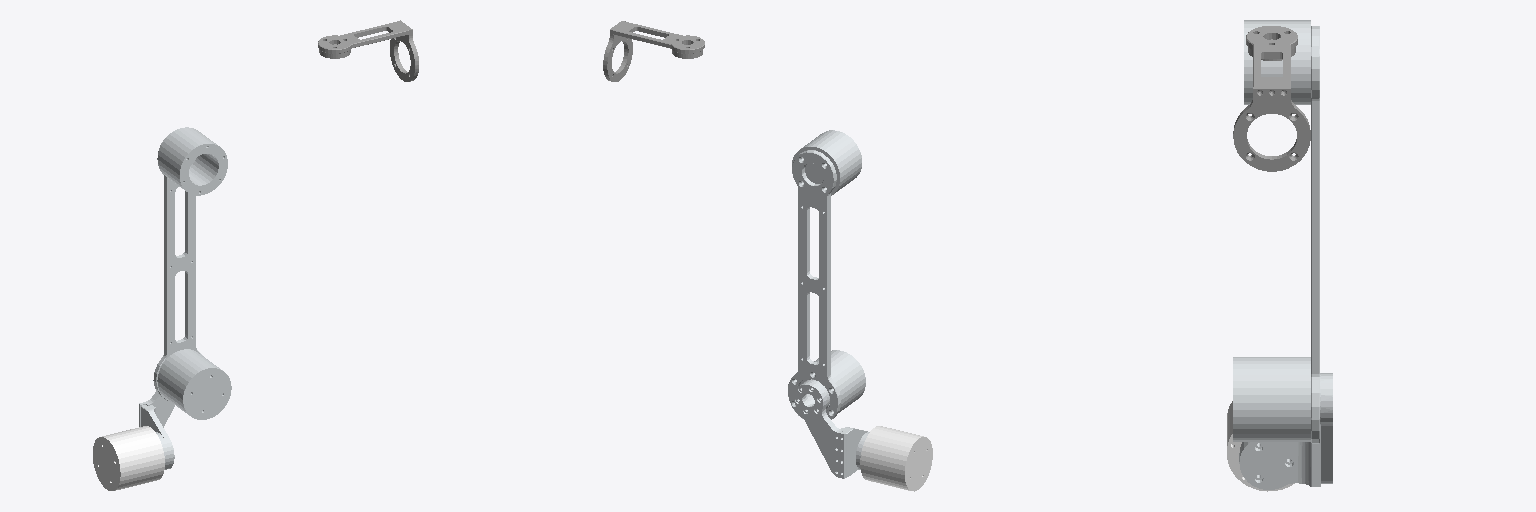
URDF robot description (arm):
<?xml version="1.0" encoding="utf-8"?>
<!-- This URDF was automatically created by SolidWorks to URDF Exporter! Originally created by Stephen Brawner (brawner@gmail.com) 
     Commit Version: 1.6.0-4-g7f85cfe  Build Version: 1.6.7995.38578
     For more information, please see http://wiki.ros.org/sw_urdf_exporter -->
<robot name="arm">

  <link
    name="base_link">
    <inertial>
      <origin
        xyz="0.025701 5.0471E-18 1.8724E-17"
        rpy="0 0 0" />
      <mass
        value="0.361" />
      <inertia
        ixx="0.00013128"
        ixy="-9.8948E-21"
        ixz="-1.4612E-21"
        iyy="0.0001261"
        iyz="8.4933E-21"
        izz="0.0001261" />
    </inertial>
    <visual>
      <origin
        xyz="0 0 0"
        rpy="0 0 0" />
      <geometry>
        <mesh
          filename="package://dummy_description/meshes/arm/A-L1-GAMMA/base_link.STL" />
      </geometry>
      <material
        name="">
        <color
          rgba="1 1 1 1" />
      </material>
    </visual>
    <collision>
      <origin
        xyz="0 0 0"
        rpy="0 0 0" />
      <geometry>
        <mesh
          filename="package://dummy_description/meshes/arm/A-L1-GAMMA/base_link.STL" />
      </geometry>
    </collision>
  </link>
  <link
    name="link1">
    <inertial>
      <origin
        xyz="0.03356 0.0084188 0.049178"
        rpy="0 0 0" />
      <mass
        value="0.471" />
      <inertia
        ixx="0.00017444"
        ixy="-1.9181E-06"
        ixz="-1.3887E-05"
        iyy="0.0001772"
        iyz="-3.8449E-06"
        izz="0.0001465" />
    </inertial>
    <visual>
      <origin
        xyz="0 0 0"
        rpy="0 0 0" />
      <geometry>
        <mesh
          filename="package://dummy_description/meshes/arm/A-L1-GAMMA/Link1.STL" />
      </geometry>
      <material
        name="">
        <color
          rgba="0.89804 0.91765 0.92941 1" />
      </material>
    </visual>
    <collision>
      <origin
        xyz="0 0 0"
        rpy="0 0 0" />
      <geometry>
        <mesh
          filename="package://dummy_description/meshes/arm/A-L1-GAMMA/Link1.STL" />
      </geometry>
    </collision>
  </link>
  <joint
    name="joint1"
    type="revolute">
    <origin
      xyz="0.0613 0 0"
      rpy="0 0 0" />
    <parent
      link="base_link" />
    <child
      link="link1" />
    <axis
      xyz="1 0 0" />
    <limit
      lower="-3.14"
      upper="3.14"
      effort="0"
      velocity="0" />
  </joint>
  <link
    name="link2">
    <inertial>
      <origin
        xyz="2.6368E-16 -0.012392 0.17249"
        rpy="0 0 0" />
      <mass
        value="0.429" />
      <inertia
        ixx="0.0010287"
        ixy="-1.3972E-20"
        ixz="3.8782E-19"
        iyy="0.0010584"
        iyz="-3.9081E-08"
        izz="5.6591E-05" />
    </inertial>
    <visual>
      <origin
        xyz="0 0 0"
        rpy="0 0 0" />
      <geometry>
        <mesh
          filename="package://dummy_description/meshes/arm/A-L1-GAMMA/Link2.STL" />
      </geometry>
      <material
        name="">
        <color
          rgba="0.89804 0.91765 0.92941 1" />
      </material>
    </visual>
    <collision>
      <origin
        xyz="0 0 0"
        rpy="0 0 0" />
      <geometry>
        <mesh
          filename="package://dummy_description/meshes/arm/A-L1-GAMMA/Link2.STL" />
      </geometry>
    </collision>
  </link>
  <joint
    name="joint2"
    type="revolute">
    <origin
      xyz="0.042986 0.03395 0.064067"
      rpy="0 0 0" />
    <parent
      link="link1" />
    <child
      link="link2" />
    <axis
      xyz="0 -1 0" />
    <limit
      lower="-3.14"
      upper="3.14"
      effort="0"
      velocity="0" />
  </joint>
  <link
    name="link3">
    <inertial>
      <origin
        xyz="0.00017294 0.021038 0.033489"
        rpy="0 0 0" />
      <mass
        value="0.238" />
      <inertia
        ixx="3.4086E-05"
        ixy="-2.0284E-07"
        ixz="-1.895E-06"
        iyy="2.6983E-05"
        iyz="-1.4595E-07"
        izz="2.098E-05" />
    </inertial>
    <visual>
      <origin
        xyz="0 0 0"
        rpy="0 0 0" />
      <geometry>
        <mesh
          filename="package://dummy_description/meshes/arm/A-L1-GAMMA/Link3.STL" />
      </geometry>
      <material
        name="">
        <color
          rgba="1 1 1 1" />
      </material>
    </visual>
    <collision>
      <origin
        xyz="0 0 0"
        rpy="0 0 0" />
      <geometry>
        <mesh
          filename="package://dummy_description/meshes/arm/A-L1-GAMMA/Link3.STL" />
      </geometry>
    </collision>
  </link>
  <joint
    name="joint3"
    type="revolute">
    <origin
      xyz="0 -0.057 0.24873"
      rpy="0 0 0" />
    <parent
      link="link2" />
    <child
      link="link3" />
    <axis
      xyz="0 -1 0" />
    <limit
      lower="-3.14"
      upper="3.14"
      effort="0"
      velocity="0" />
  </joint>
  <link
    name="link4">
    <inertial>
      <origin
        xyz="0.1005 2.5613E-05 0.0067766"
        rpy="0 0 0" />
      <mass
        value="0.252" />
      <inertia
        ixx="1.7227E-05"
        ixy="-4.213E-09"
        ixz="-3.0057E-06"
        iyy="6.0252E-05"
        iyz="-6.9996E-08"
        izz="6.852E-05" />
    </inertial>
    <visual>
      <origin
        xyz="0 0 0"
        rpy="0 0 0" />
      <geometry>
        <mesh
          filename="package://dummy_description/meshes/arm/A-L1-GAMMA/Link4.STL" />
      </geometry>
      <material
        name="">
        <color
          rgba="0.89804 0.91765 0.92941 0.25" />
      </material>
    </visual>
    <collision>
      <origin
        xyz="0 0 0"
        rpy="0 0 0" />
      <geometry>
        <mesh
          filename="package://dummy_description/meshes/arm/A-L1-GAMMA/Link4.STL" />
      </geometry>
    </collision>
  </link>
  <joint
    name="joint4"
    type="revolute">
    <origin
      xyz="0.015 0.025 0.063014"
      rpy="0 0 0" />
    <parent
      link="link3" />
    <child
      link="link4" />
    <axis
      xyz="1 0 0" />
      <limit
      lower="-3.14"
      upper="3.14"
      effort="0"
      velocity="0" />
  </joint>
  <link
    name="link5">
    <inertial>
      <origin
        xyz="0.051595 -1.6142E-06 -0.014791"
        rpy="0 0 0" />
      <mass
        value="0.04" />
      <inertia
        ixx="1.1912E-05"
        ixy="-1.0649E-09"
        ixz="6.8642E-09"
        iyy="2.7295E-05"
        iyz="-2.3545E-12"
        izz="2.7133E-05" />
    </inertial>
    <visual>
      <origin
        xyz="0 0 0"
        rpy="0 0 0" />
      <geometry>
        <mesh
          filename="package://dummy_description/meshes/arm/A-L1-GAMMA/Link5.STL" />
      </geometry>
      <material
        name="">
        <color
          rgba="0.69804 0.69804 0.69804 1" />
      </material>
    </visual>
    <collision>
      <origin
        xyz="0 0 0"
        rpy="0 0 0" />
      <geometry>
        <mesh
          filename="package://dummy_description/meshes/arm/A-L1-GAMMA/Link5.STL" />
      </geometry>
    </collision>
  </link>
  <joint
    name="joint5"
    type="revolute">
    <origin
      xyz="0.15 0 0.0335"
      rpy="0 0 0" />
    <parent
      link="link4" />
    <child
      link="link5" />
    <axis
      xyz="0 0 1" />
      <limit
      lower="-3.14"
      upper="3.14"
      effort="0"
      velocity="0" />
  </joint>
  <!-- <link name="virtual_effector"/> -->

  <link
    name="link6">
    <inertial>
      <origin
        xyz="-0.024394 4.6432E-05 -0.00010323"
        rpy="0 0 0" />
      <mass
        value="0.191" />
      <inertia
        ixx="7.9374E-06"
        ixy="-1.9777E-08"
        ixz="4.884E-08"
        iyy="4.8157E-06"
        iyz="-4.2131E-09"
        izz="4.8109E-06" />
    </inertial>
    <visual>
      <origin
        xyz="0 0 0"
        rpy="0 0 0" />
      <geometry>
        <mesh
          filename="package://dummy_description/meshes/arm/A-L1-GAMMA/Link6.STL" />
      </geometry>
      <material
        name="">
        <color
          rgba="0.75294 0.75294 0.75294 1" />
      </material>
    </visual>
    <collision>
      <origin
        xyz="0 0 0"
        rpy="0 0 0" />
      <geometry>
        <mesh
          filename="package://dummy_description/meshes/arm/A-L1-GAMMA/Link6.STL" />
      </geometry>
    </collision>
  </link>

  <joint
    name="joint6"
    type="revolute">
    <origin
      xyz="0.084 0 -0.035"
      rpy="0 0 0" />
    <parent
      link="link5" />
    <child
      link="link6" />
    <axis
      xyz="1 0 0" />
    <limit
      lower="-3.15"
      upper="3.15"
      effort="0"
      velocity="0" />
  </joint>

  <!-- <joint
    name="joint6"
    type="revolute">
    <origin
      xyz="0.084 0 -0.035"
      rpy="0 0 0" />
    <parent
      link="link5" />
    <child
      link="virtual_effector" />
    <axis
      xyz="1 0 0" />
    <limit
      lower="-3.15"
      upper="3.15"
      effort="0"
      velocity="0" />
  </joint> -->
</robot>

--- What the picture shows (computed from the rendered views, not written in the file) ---
3 views of the same robot in one strip: view 1: azimuth 30°, elevation 25°; view 2: azimuth 150°, elevation 25°; view 3: azimuth 270°, elevation 25° (orthographic).
Robot: arm — 7 links, 6 joints (6 revolute); root link base_link; default pose: every joint at zero.
Links seen in each view (by area): view 1: link2, link1, base_link, link5; view 2: link2, link1, base_link, link5; view 3: link1, link2, link5, base_link.
Link boxes in pixels (<box>): link2: <box>153,127,227,400</box>; link1: <box>139,349,231,469</box>; base_link: <box>93,426,164,490</box>; link5: <box>318,20,418,81</box>; link2: <box>788,130,861,419</box>; link1: <box>794,350,869,478</box>; base_link: <box>860,426,932,491</box>; link5: <box>603,21,704,81</box>; link1: <box>1233,357,1332,489</box>; link2: <box>1244,20,1319,443</box>; link5: <box>1233,26,1310,171</box>; base_link: <box>1227,401,1294,491</box>.
Size in the robot's own frame: 0.3533 by 0.0715 by 0.4378 metres.
4 mesh visuals loaded from 7 distinct referenced files (4 binary STL); not drawn: 3 (reference not matched to a file when rendering).
